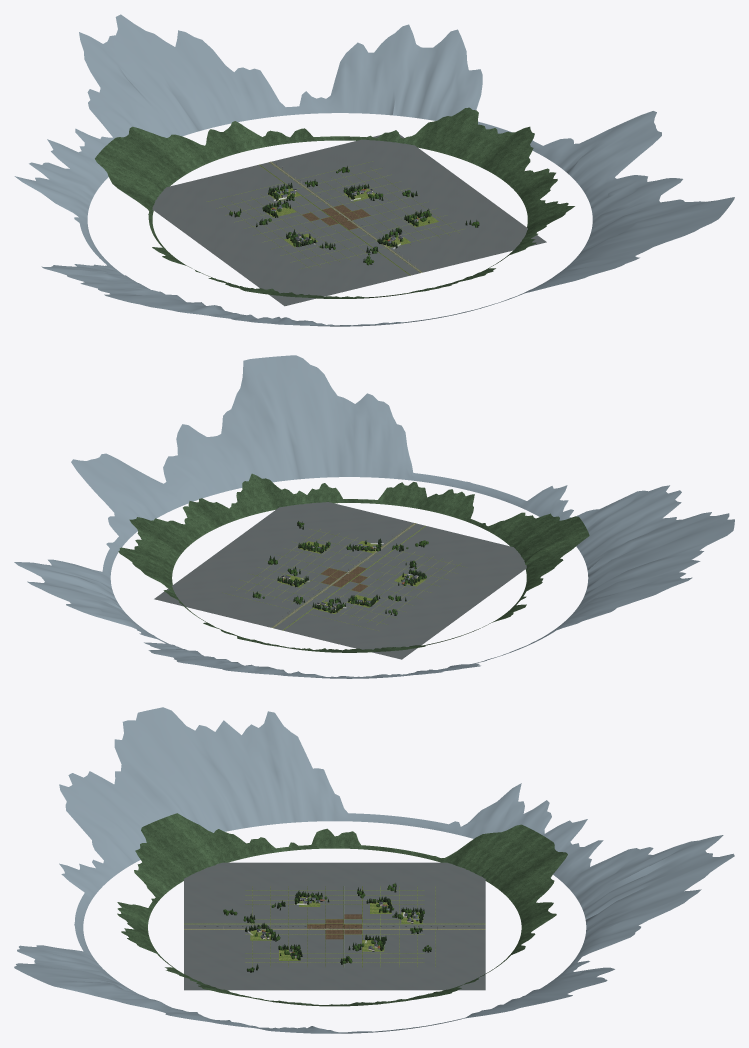
File: field_tanbo_shirokaki.glb
3 views of the same model, one above another, from view 1: azimuth 30°, elevation 25°; view 2: azimuth 150°, elevation 25°; view 3: azimuth 270°, elevation 25° (orthographic). The views are drawn at different scales.
Visible parts, largest first — view 1: Hills, NeighborsTilled, Neighbors, Trees, Houses, Levees; view 2: Hills, NeighborsTilled, Neighbors, Trees, Houses; view 3: Hills, NeighborsTilled, Neighbors, Trees, Houses, Levees.
Part boxes in pixels (box(x1,y1,x2,y2)): Hills: box(14, 14, 734, 326); NeighborsTilled: box(152, 134, 546, 305); Neighbors: box(152, 134, 546, 305); Trees: box(229, 166, 479, 265); Houses: box(264, 188, 438, 249); Levees: box(259, 161, 422, 275); Hills: box(14, 355, 734, 678); NeighborsTilled: box(154, 502, 526, 659); Neighbors: box(155, 502, 526, 659); Trees: box(252, 521, 428, 615); Houses: box(277, 541, 425, 613); Hills: box(14, 707, 734, 1033); NeighborsTilled: box(184, 862, 485, 990); Neighbors: box(184, 863, 485, 989); Trees: box(223, 883, 431, 972); Houses: box(247, 895, 422, 960); Levees: box(184, 923, 485, 929).
Bounding box in the file's own units: 2031 × 199 × 2007.
41 materials, 13 textured.
